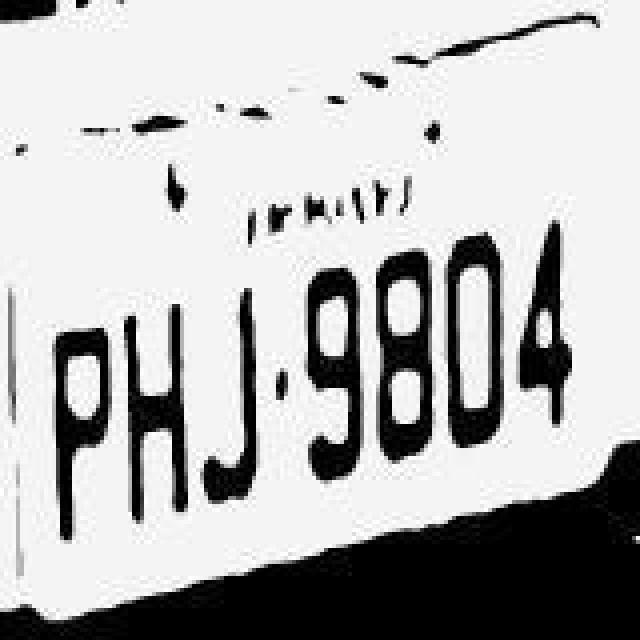4: (514, 220, 590, 484)
8: (372, 242, 444, 494)
9: (300, 236, 372, 516)
H: (122, 256, 198, 528)
J: (196, 264, 268, 528)
O: (444, 214, 516, 490)
P: (40, 266, 120, 534)
